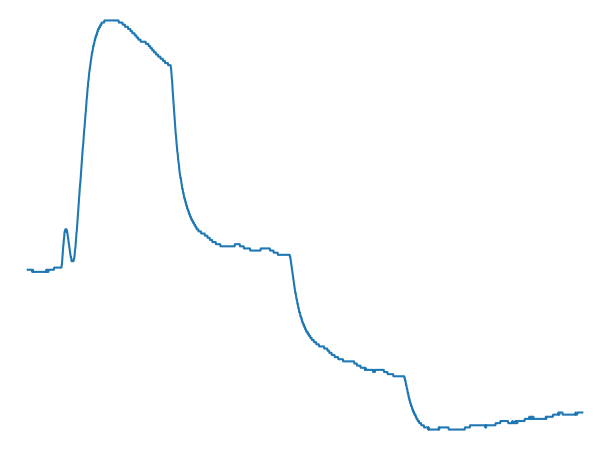decrease: (273, 241, 298, 265), (164, 49, 179, 76), (392, 367, 412, 387)
increase: (53, 223, 83, 275)
